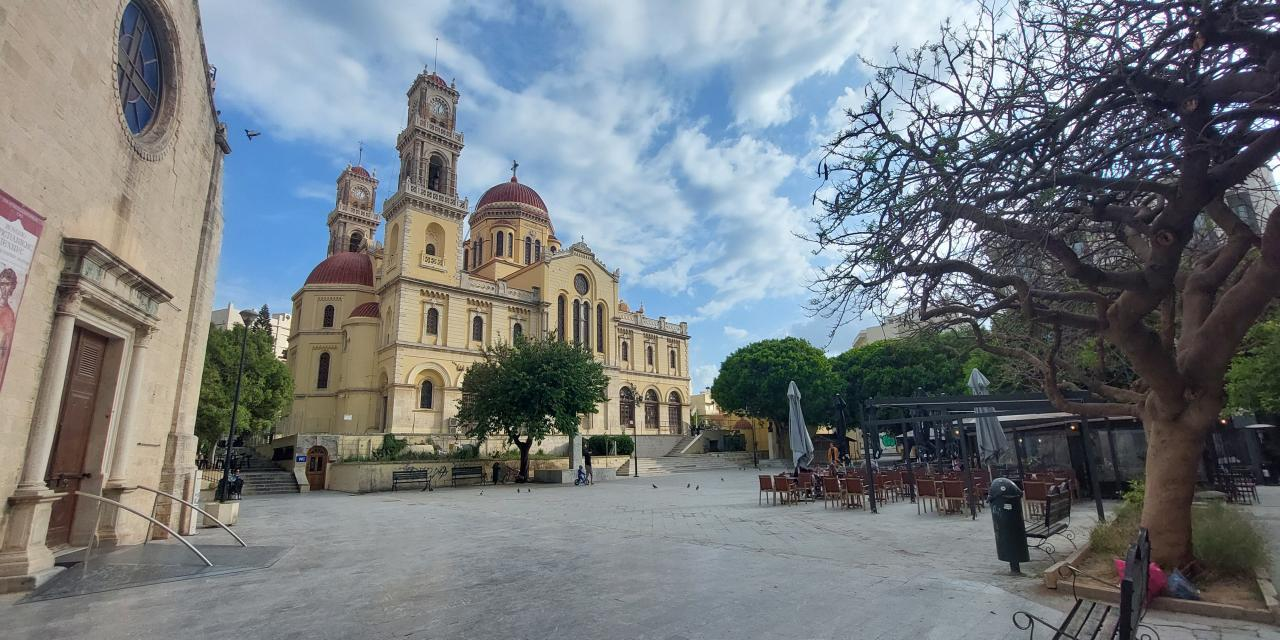Agios Minas: (278, 50, 698, 490)
